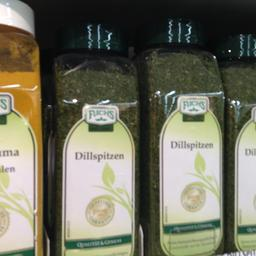spices: (52, 14, 140, 255), (141, 10, 224, 255)
